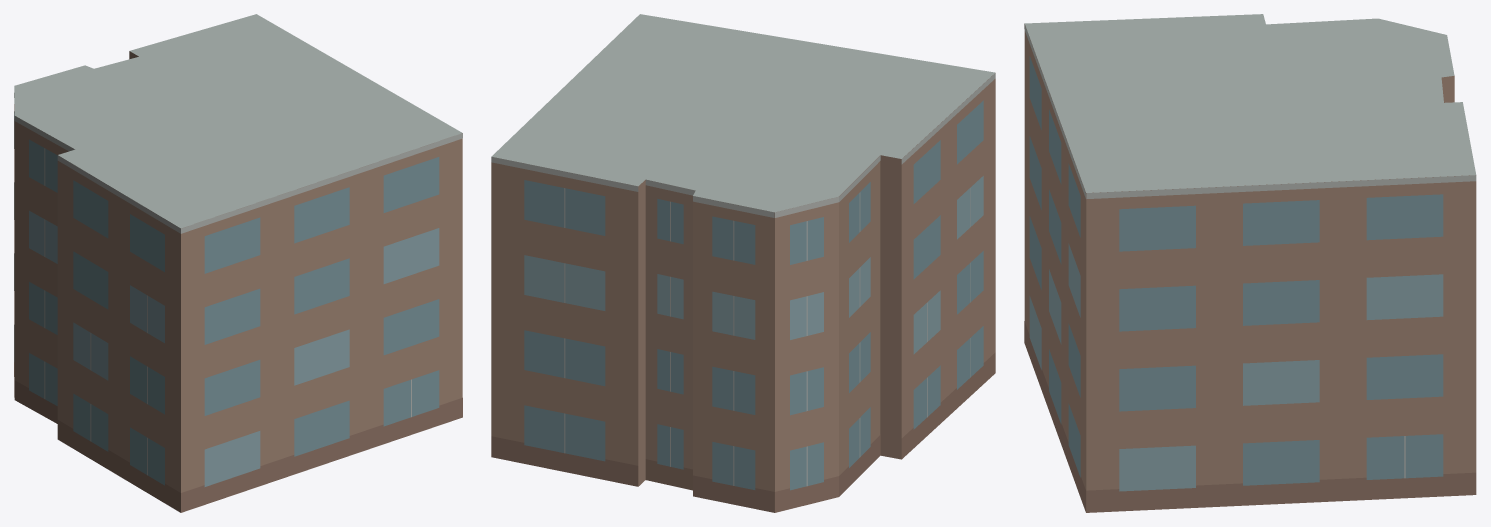
Rendered from survey-upis-32631219.glb.
The picture shows the model from 3 angles, left to right: view 1: azimuth 30°, elevation 25°; view 2: azimuth 150°, elevation 25°; view 3: azimuth 270°, elevation 25°; orthographic projection. The views are drawn at different scales.
Parts seen in each view (by area): view 1: survey-upis-32631219.tmp; view 2: survey-upis-32631219.tmp; view 3: survey-upis-32631219.tmp.
Part boxes in pixels (<box>): survey-upis-32631219.tmp: <box>14,14,462,512</box>; survey-upis-32631219.tmp: <box>491,14,995,512</box>; survey-upis-32631219.tmp: <box>1024,14,1476,512</box>.
Size of the model in its own units: 15.38 by 12.8 by 16.4.
